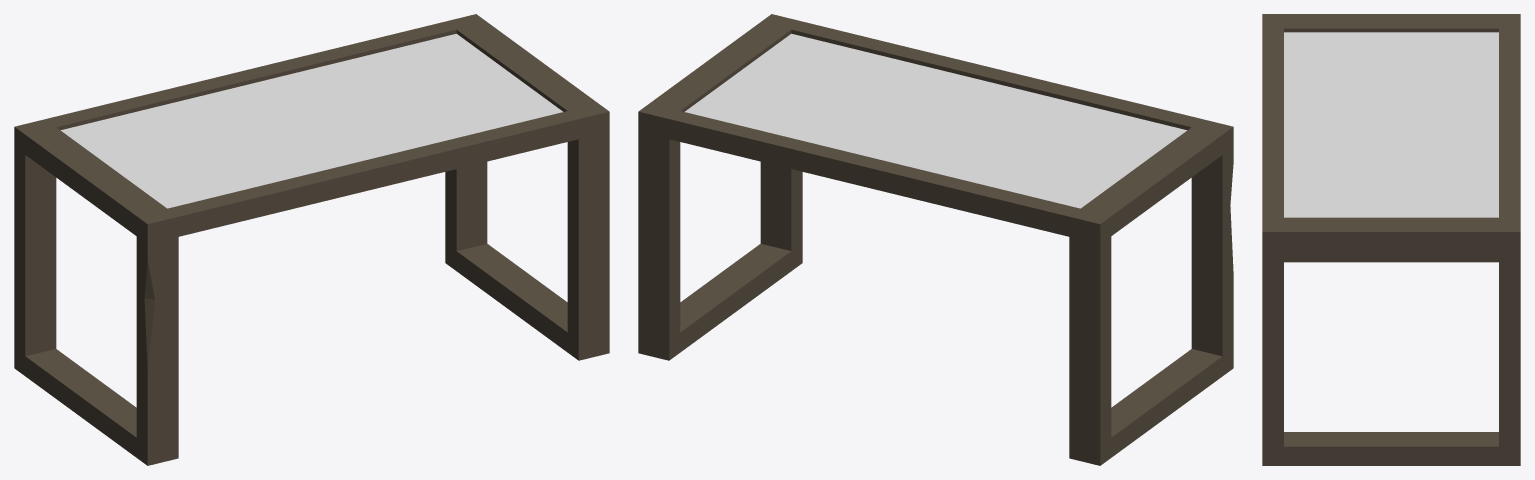
Rendered from SM_Props_Interior_House_Room_Coffee_Table_04.fbx.
3 renders of one model, left to right at view 1: azimuth 30°, elevation 25°; view 2: azimuth 150°, elevation 25°; view 3: azimuth 270°, elevation 25°, orthographic. The views are drawn at different scales.
Parts seen in each view (by area): view 1: SM_Props_Interior_House_Room_Coffee_Table_04; view 2: SM_Props_Interior_House_Room_Coffee_Table_04; view 3: SM_Props_Interior_House_Room_Coffee_Table_04.
Part boxes in pixels (x1,y1,x2,y2): SM_Props_Interior_House_Room_Coffee_Table_04: (14,14,609,465); SM_Props_Interior_House_Room_Coffee_Table_04: (638,14,1233,465); SM_Props_Interior_House_Room_Coffee_Table_04: (1262,14,1520,465).
Bounding box in the file's own units: 60 × 30 × 30.
